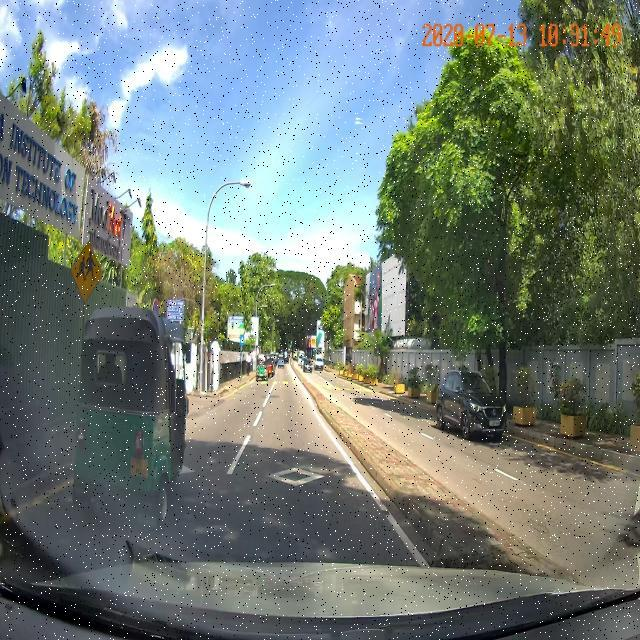diamond: (214, 448, 391, 511)
